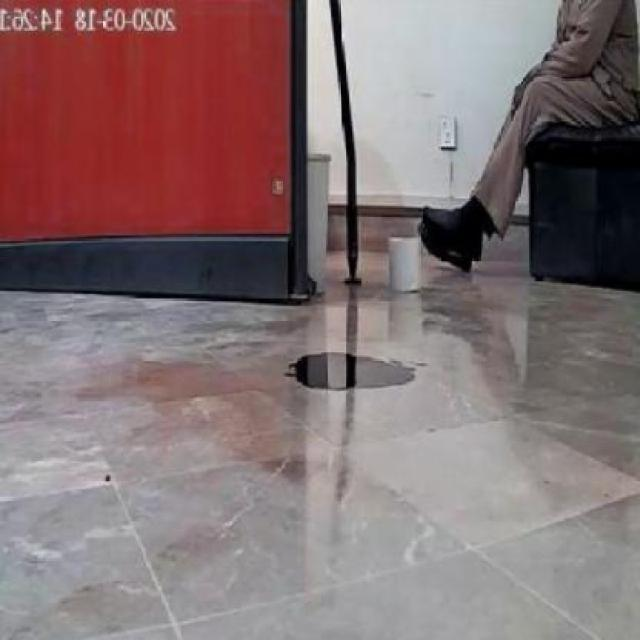spillage: (272, 350, 431, 391)
